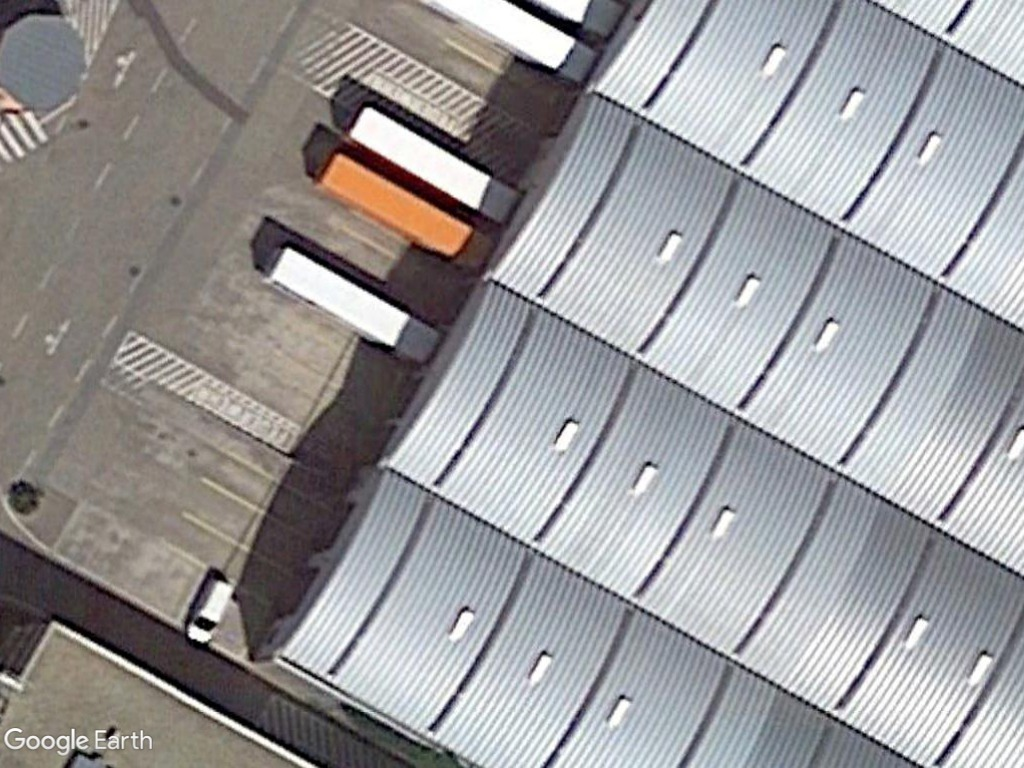longvehicle: (263, 239, 442, 369), (343, 99, 529, 224), (316, 148, 492, 273)
van: (184, 577, 239, 649)
